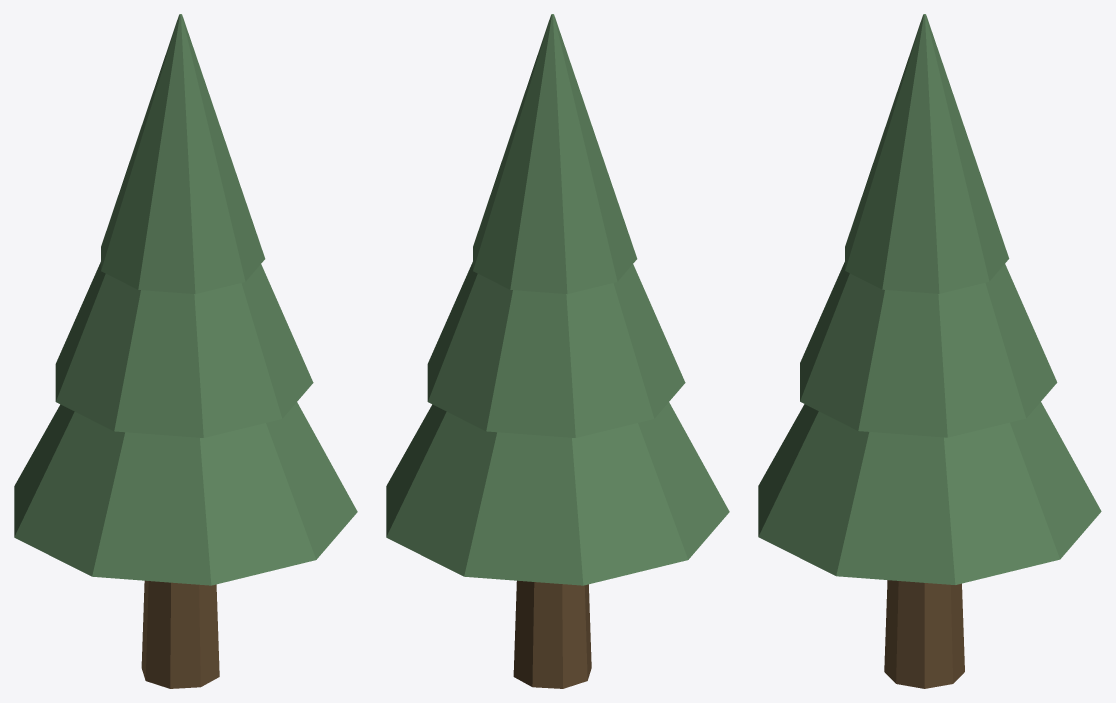
Rendered from cedar.glb.
3 views of the same model, side by side, from view 1: azimuth 30°, elevation 25°; view 2: azimuth 150°, elevation 25°; view 3: azimuth 270°, elevation 25° (orthographic).
Parts seen in each view (by area): view 1: CedarCrownLow, CedarCrownMid, CedarCrownTop, CedarTrunk; view 2: CedarCrownLow, CedarCrownMid, CedarCrownTop, CedarTrunk; view 3: CedarCrownLow, CedarCrownMid, CedarCrownTop, CedarTrunk.
Part boxes in pixels (box(x1,y1,x2,y2)): CedarCrownLow: box(14, 402, 357, 585); CedarCrownMid: box(55, 262, 313, 437); CedarCrownTop: box(101, 14, 265, 293); CedarTrunk: box(141, 580, 219, 688); CedarCrownLow: box(386, 402, 729, 585); CedarCrownMid: box(427, 262, 685, 437); CedarCrownTop: box(473, 14, 637, 293); CedarTrunk: box(513, 580, 591, 688); CedarCrownLow: box(758, 402, 1101, 584); CedarCrownMid: box(800, 262, 1057, 437); CedarCrownTop: box(845, 14, 1009, 293); CedarTrunk: box(884, 580, 964, 688).
Bounding box in the file's own units: 1.81 × 3.77 × 1.78.
